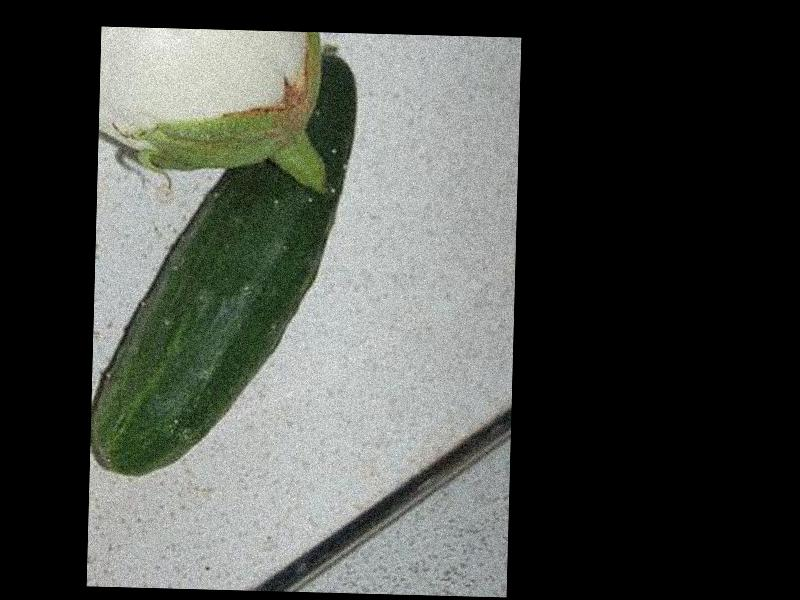Cucumber: (89, 38, 356, 480)
